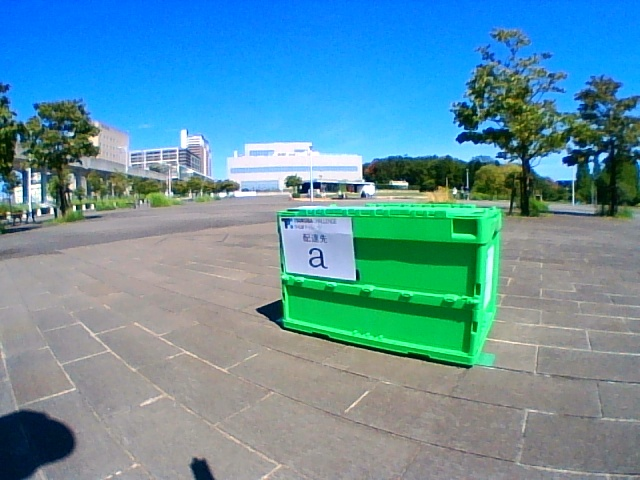green_box: (277, 203, 502, 368)
tag_a: (285, 220, 352, 273)
